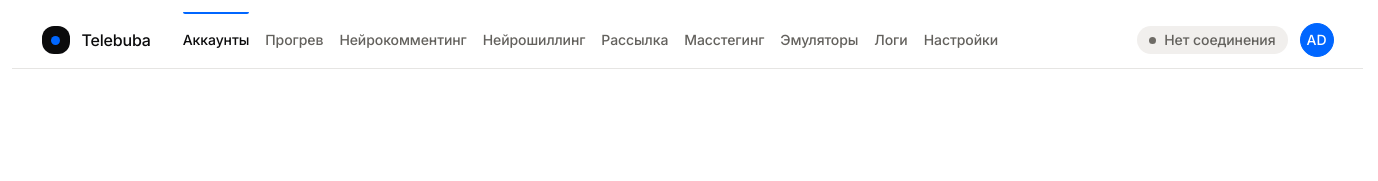
Scenario: Escape closes the avatar menu and returns focus to the avatar
Click the button with aria-label "Аккаунт". click: {"x": 1316, "y": 40}
box: [1300,23,1334,57]
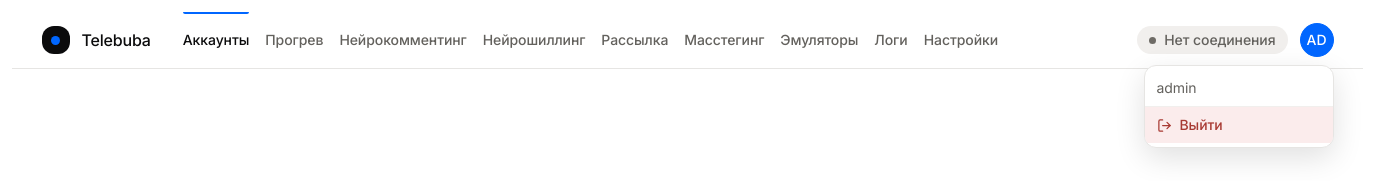
Expected: the button "Выйти" is shown, [1144,107,1332,143]
Press Escape
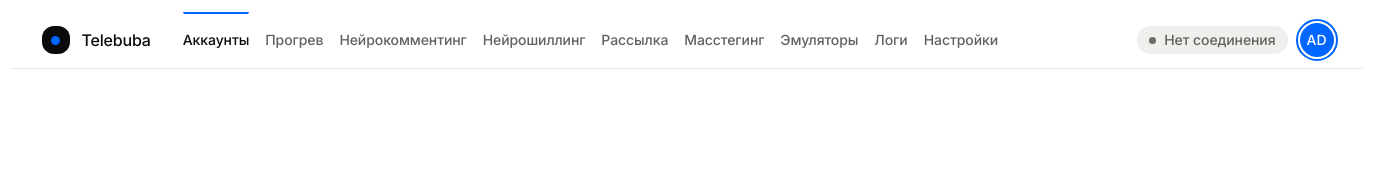
Expected: the button "Выйти" is gone
